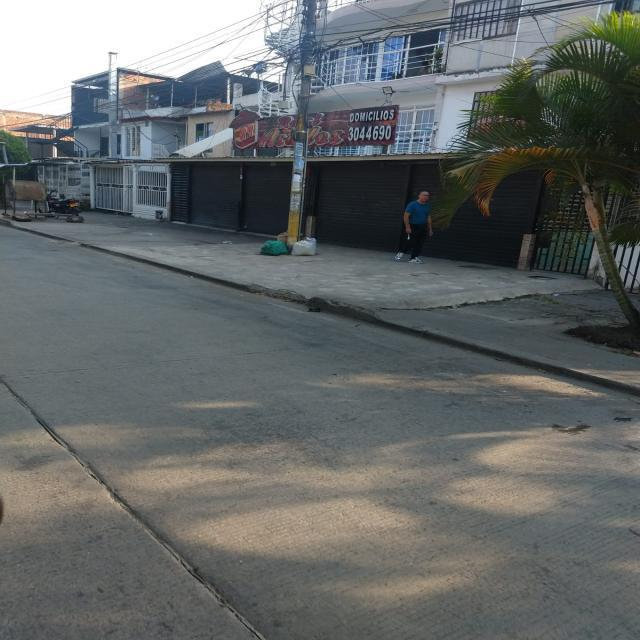Garbage_Bag: (258, 238, 289, 256), (290, 240, 316, 256)
